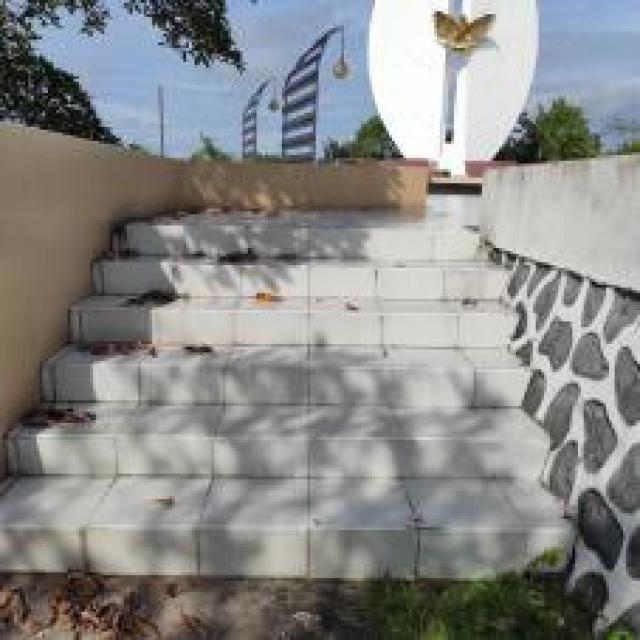upstair: (18, 199, 548, 591)
